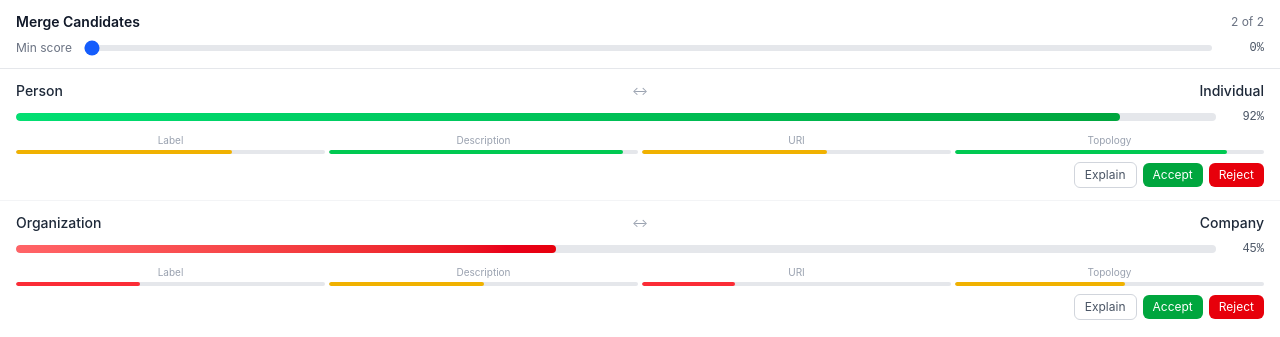
Test: MergeCandidates › shows empty state when no candidates match threshold
expect the list item with test id "candidate-pair_001" is shown: met, box 0,69 -> 1279,201
Step 1. Set the slider with test id "score-threshold-slider" to "99" → (1193, 48), box 84,45 -> 1212,51
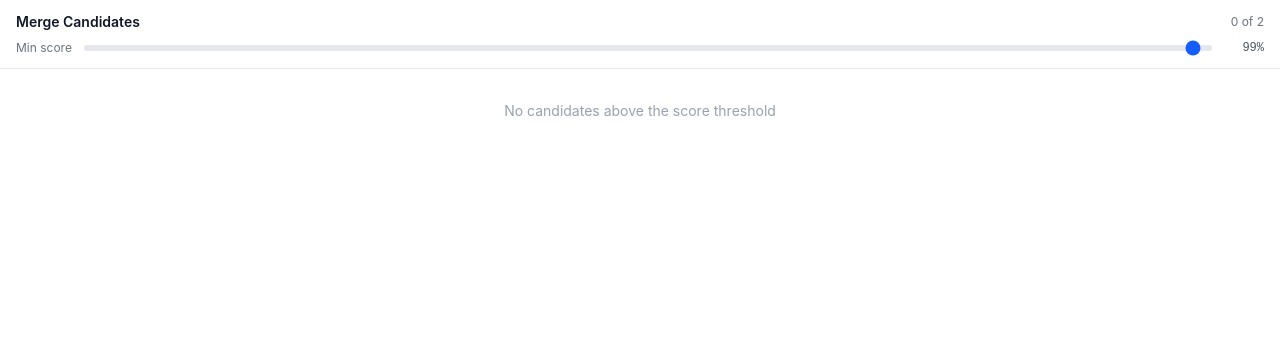
expect the element with test id "no-candidates" is shown: met, box 504,102 -> 776,119
